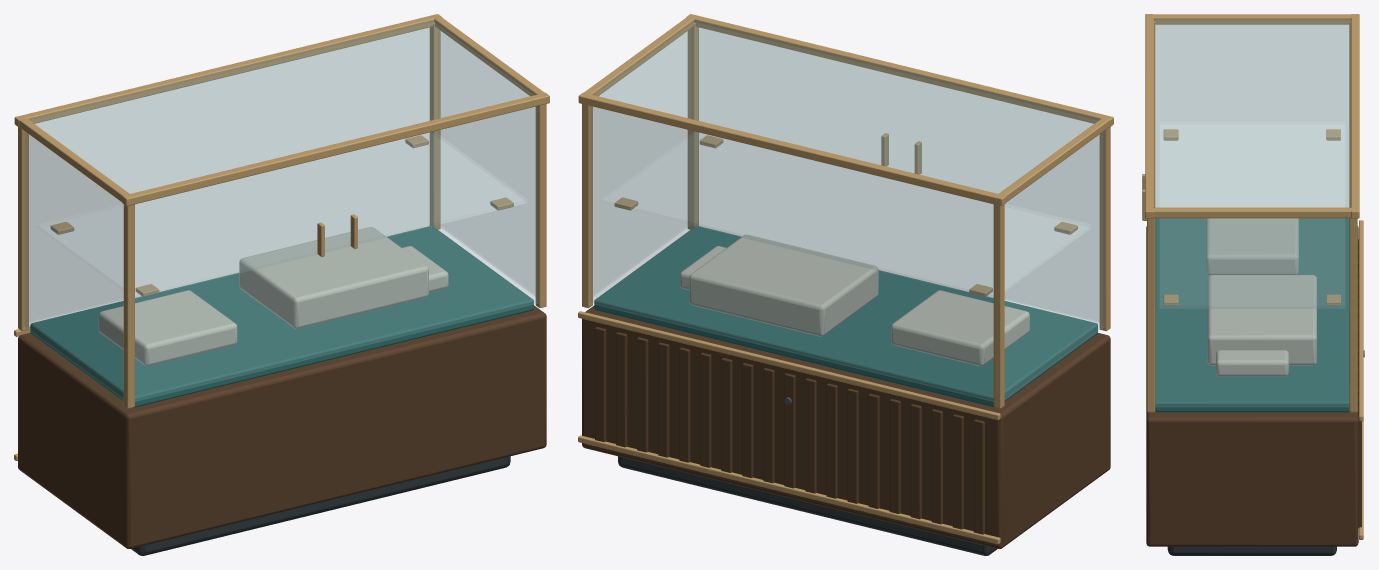
The model's file is retail_display_case.glb.
3 views of the same model, side by side, from view 1: azimuth 30°, elevation 25°; view 2: azimuth 150°, elevation 25°; view 3: azimuth 270°, elevation 25° (orthographic). The views are drawn at different scales.
Visible parts, largest first — view 1: retail_display_case_render_mesh; view 2: retail_display_case_render_mesh; view 3: retail_display_case_render_mesh.
Boxes of the visible parts, box(x1,y1,x2,y2) form: retail_display_case_render_mesh: box(14, 14, 549, 555); retail_display_case_render_mesh: box(578, 14, 1113, 555); retail_display_case_render_mesh: box(1142, 14, 1364, 555).
Bounding box in the file's own units: 1.41 × 1.19 × 0.6705.
